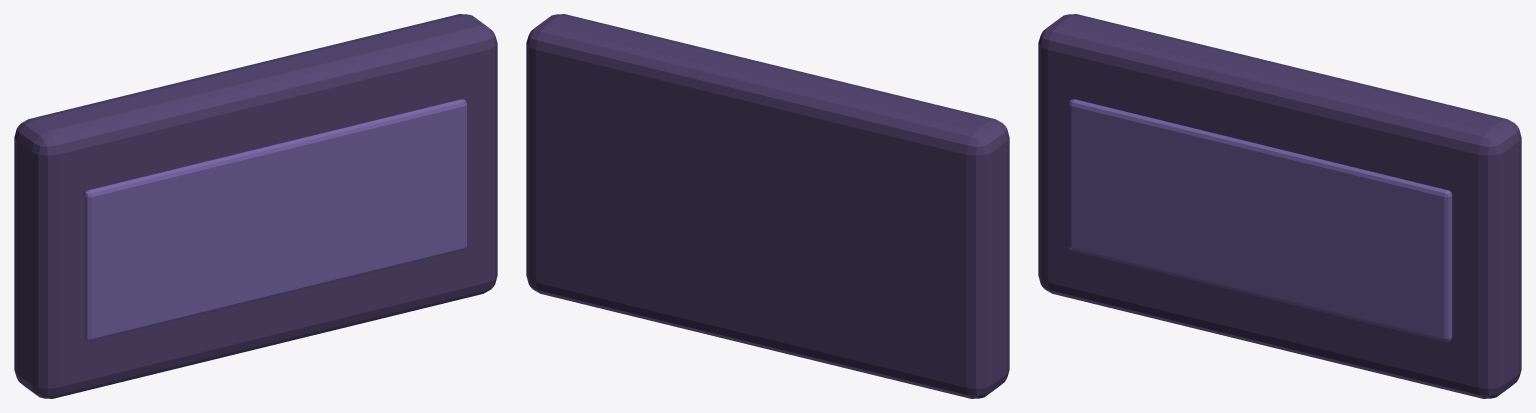
File: SM_WallStraight_01.fbx
3 views of the same model, side by side, from view 1: azimuth 30°, elevation 25°; view 2: azimuth 150°, elevation 25°; view 3: azimuth 330°, elevation 25° (orthographic).
Parts seen in each view (by area): view 1: SM_WallStraight, SM_WallPanel; view 2: SM_WallStraight; view 3: SM_WallStraight, SM_WallPanel.
Boxes of the visible parts, box(x1,y1,x2,y2) form: SM_WallStraight: box(14, 14, 497, 398); SM_WallPanel: box(83, 99, 466, 341); SM_WallStraight: box(526, 14, 1009, 398); SM_WallStraight: box(1038, 14, 1521, 398); SM_WallPanel: box(1069, 99, 1452, 341).
Size of the model in its own units: 400 by 220 by 58.
